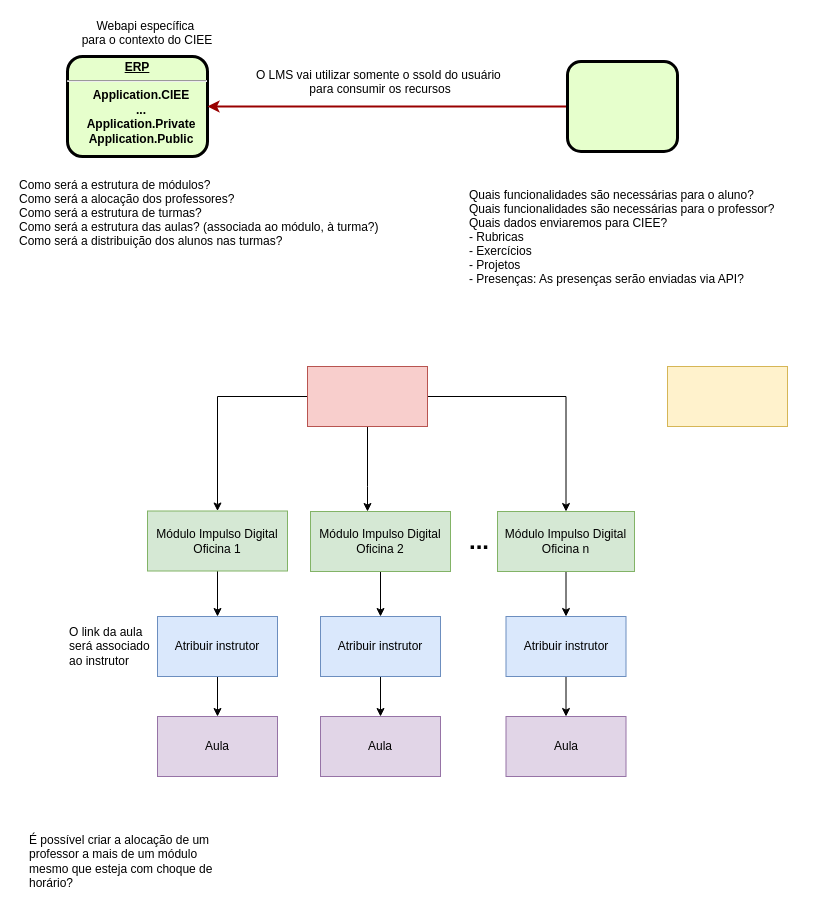
The diagram is 828 pixels wide and 913 high, and some of its shapes have lost their labels. The centre of each missing label's shape, as x and y in pixels:
"Ciee - Etapa Inicial Turma (Inicial)" belongs at pixel 367 396.
"LMS Um novo front (enxuto) com visão de aluno e prof" belongs at pixel 622 106.
"Template de Módulo Impulso Digital" belongs at pixel 727 396.
